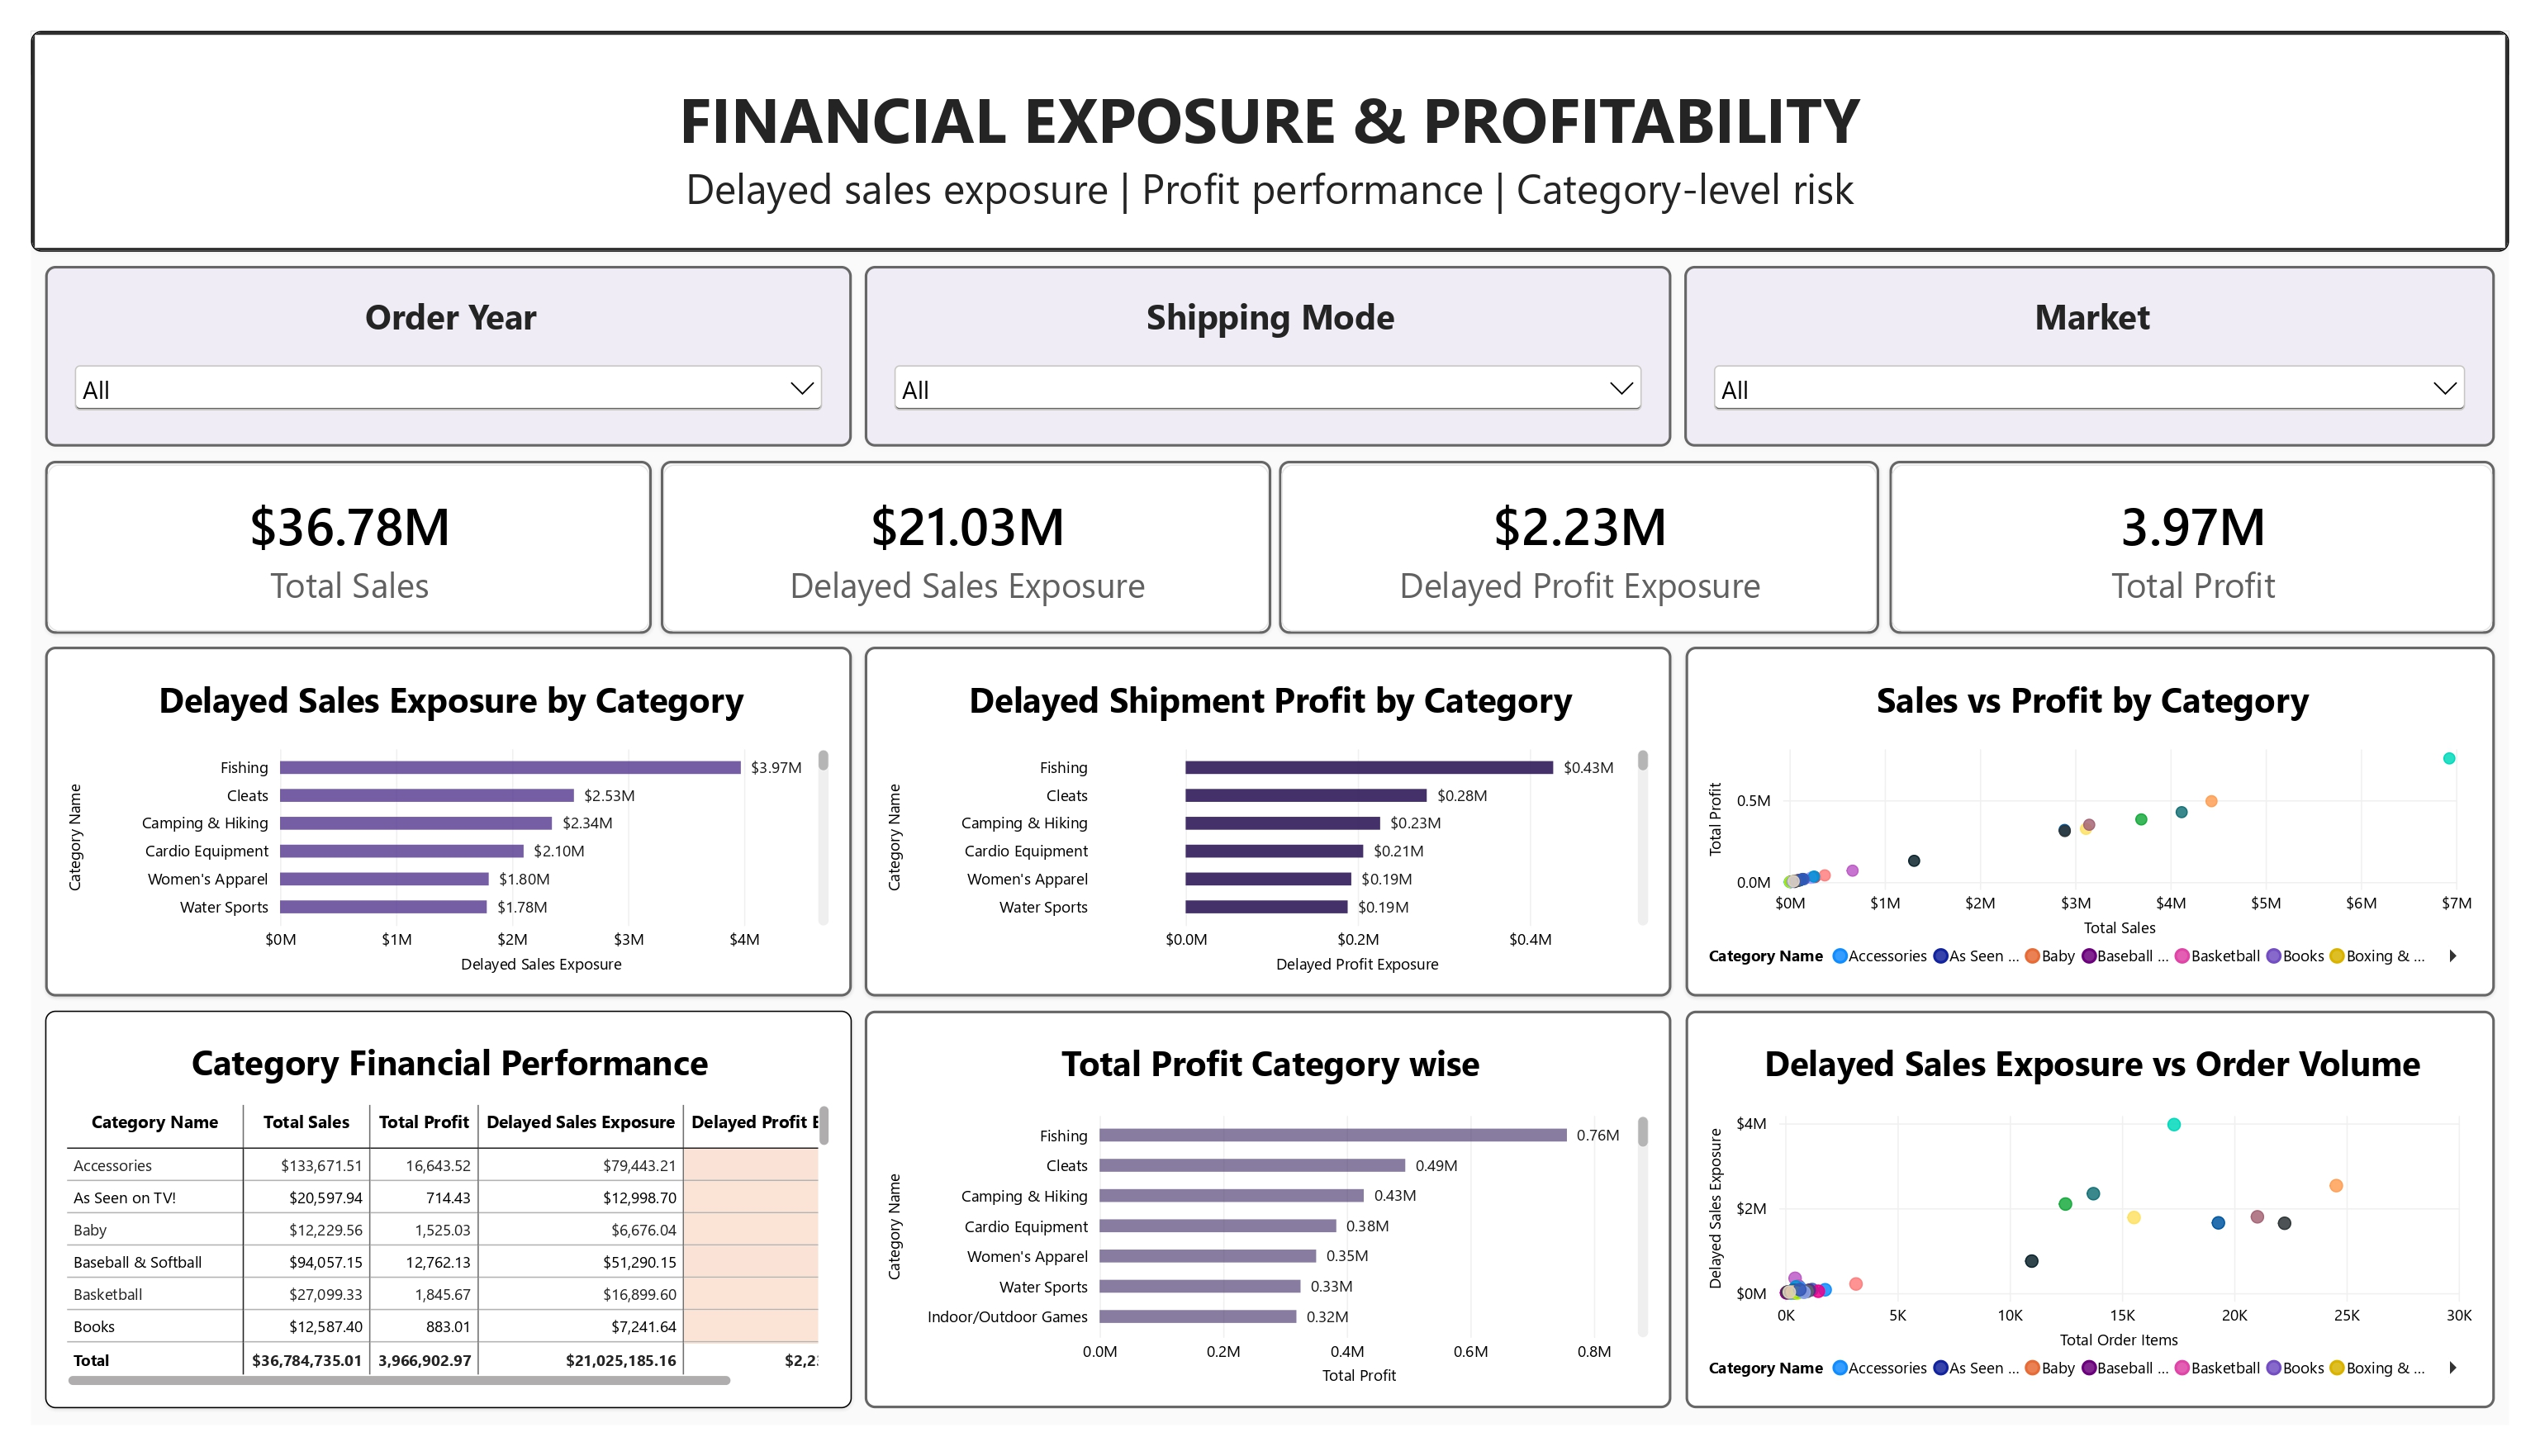

The dashboard page shown, as its layout file describes it:
{"tool":"powerbi","page":{"name":"Financial Exposure ","canvas":[1920,1080],"ordinal":3},"visuals":[{"type":"shape","box":[0,0,1920,171.2],"z":0},{"type":"textbox","box":[18.8,34.9,1882.5,112.6],"z":1},{"type":"slicer","title":"Order Year ","fields":{"Values":["cleaned_SupplyChainDataset.Order Year"]},"box":[10.7,182.3,624.8,139.4],"z":2},{"type":"slicer","title":"Shipping Mode ","fields":{"Values":["cleaned_SupplyChainDataset.Shipping Mode"]},"box":[646.3,182.3,624.8,139.4],"z":4},{"type":"cardVisual","fields":{"Data":["_Measures.Total Sales"]},"box":[10.7,332.5,470,134.1],"z":5},{"type":"cardVisual","fields":{"Data":["_Measures.Total Profit"]},"box":[1440,332.5,469.3,134.1],"z":6},{"type":"cardVisual","fields":{"Data":["_Measures.Delayed Profit Exposure"]},"box":[967,332.5,465,134.1],"z":7},{"type":"cardVisual","fields":{"Data":["_Measures.Delayed Sales Exposure"]},"box":[488,332.5,473,134.1],"z":8},{"type":"clusteredBarChart","title":"Delayed Sales Exposure by Category ","fields":{"Category":["cleaned_SupplyChainDataset.Category Name"],"Y":["_Measures.Delayed Sales Exposure"]},"box":[10.7,477.3,624.8,270.8],"z":9},{"type":"clusteredBarChart","title":"Delayed Shipment Profit by Category ","fields":{"Category":["cleaned_SupplyChainDataset.Category Name"],"Y":["_Measures.Delayed Profit Exposure"]},"box":[646.3,477.3,625,271],"z":10},{"type":"scatterChart","title":"Sales vs Profit by Category ","fields":{"Series":["cleaned_SupplyChainDataset.Category Name"],"X":["_Measures.Total Sales"],"Y":["_Measures.Total Profit"]},"box":[1281.8,477.3,627,270.8],"z":11},{"type":"pivotTable","title":"Category Financial Performance ","fields":{"Rows":["cleaned_SupplyChainDataset.Category Name"],"Values":["_Measures.Total Sales","_Measures.Total Profit","_Measures.Delayed Sales Exposure","_Measures.Delayed Profit Exposure"]},"box":[10.7,758.9,624.8,308],"z":12},{"type":"scatterChart","title":"Delayed Sales Exposure vs Order Volume ","fields":{"Series":["cleaned_SupplyChainDataset.Category Name"],"X":["_Measures.Total Order Items"],"Y":["_Measures.Delayed Sales Exposure"]},"box":[1282,759,627,308],"z":14},{"type":"slicer","title":"Market ","fields":{"Values":["cleaned_SupplyChainDataset.Market"]},"box":[1281,182,628,140],"z":15},{"type":"clusteredBarChart","title":"Total Profit Category wise ","fields":{"Category":["cleaned_SupplyChainDataset.Category Name"],"Y":["_Measures.Total Profit"]},"box":[646,759,625,308],"z":16}]}

Visuals, with their boxes on the page's 1920x1080 design canvas (x1, y1, x2, y2). These are canvas units, not pixel positions in the 2540x1456 screenshot, which may show the page scaled, cropped or inside an application window:
shape: [left=0, top=0, right=1920, bottom=171]
textbox: [left=19, top=35, right=1901, bottom=148]
"Order Year " slicer: [left=11, top=182, right=636, bottom=322]
"Shipping Mode " slicer: [left=646, top=182, right=1271, bottom=322]
cardVisual - _Measures.Total Sales: [left=11, top=332, right=481, bottom=467]
cardVisual - _Measures.Total Profit: [left=1440, top=332, right=1909, bottom=467]
cardVisual - _Measures.Delayed Profit Exposure: [left=967, top=332, right=1432, bottom=467]
cardVisual - _Measures.Delayed Sales Exposure: [left=488, top=332, right=961, bottom=467]
"Delayed Sales Exposure by Category " clusteredBarChart: [left=11, top=477, right=636, bottom=748]
"Delayed Shipment Profit by Category " clusteredBarChart: [left=646, top=477, right=1271, bottom=748]
"Sales vs Profit by Category " scatterChart: [left=1282, top=477, right=1909, bottom=748]
"Category Financial Performance " pivotTable: [left=11, top=759, right=636, bottom=1067]
"Delayed Sales Exposure vs Order Volume " scatterChart: [left=1282, top=759, right=1909, bottom=1067]
"Market " slicer: [left=1281, top=182, right=1909, bottom=322]
"Total Profit Category wise " clusteredBarChart: [left=646, top=759, right=1271, bottom=1067]
